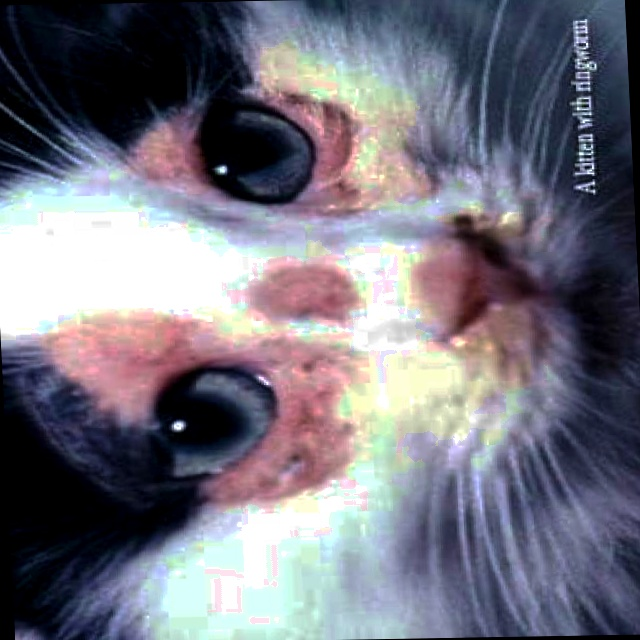ringworm: (211, 354, 360, 508), (293, 103, 359, 199), (254, 265, 358, 309)
